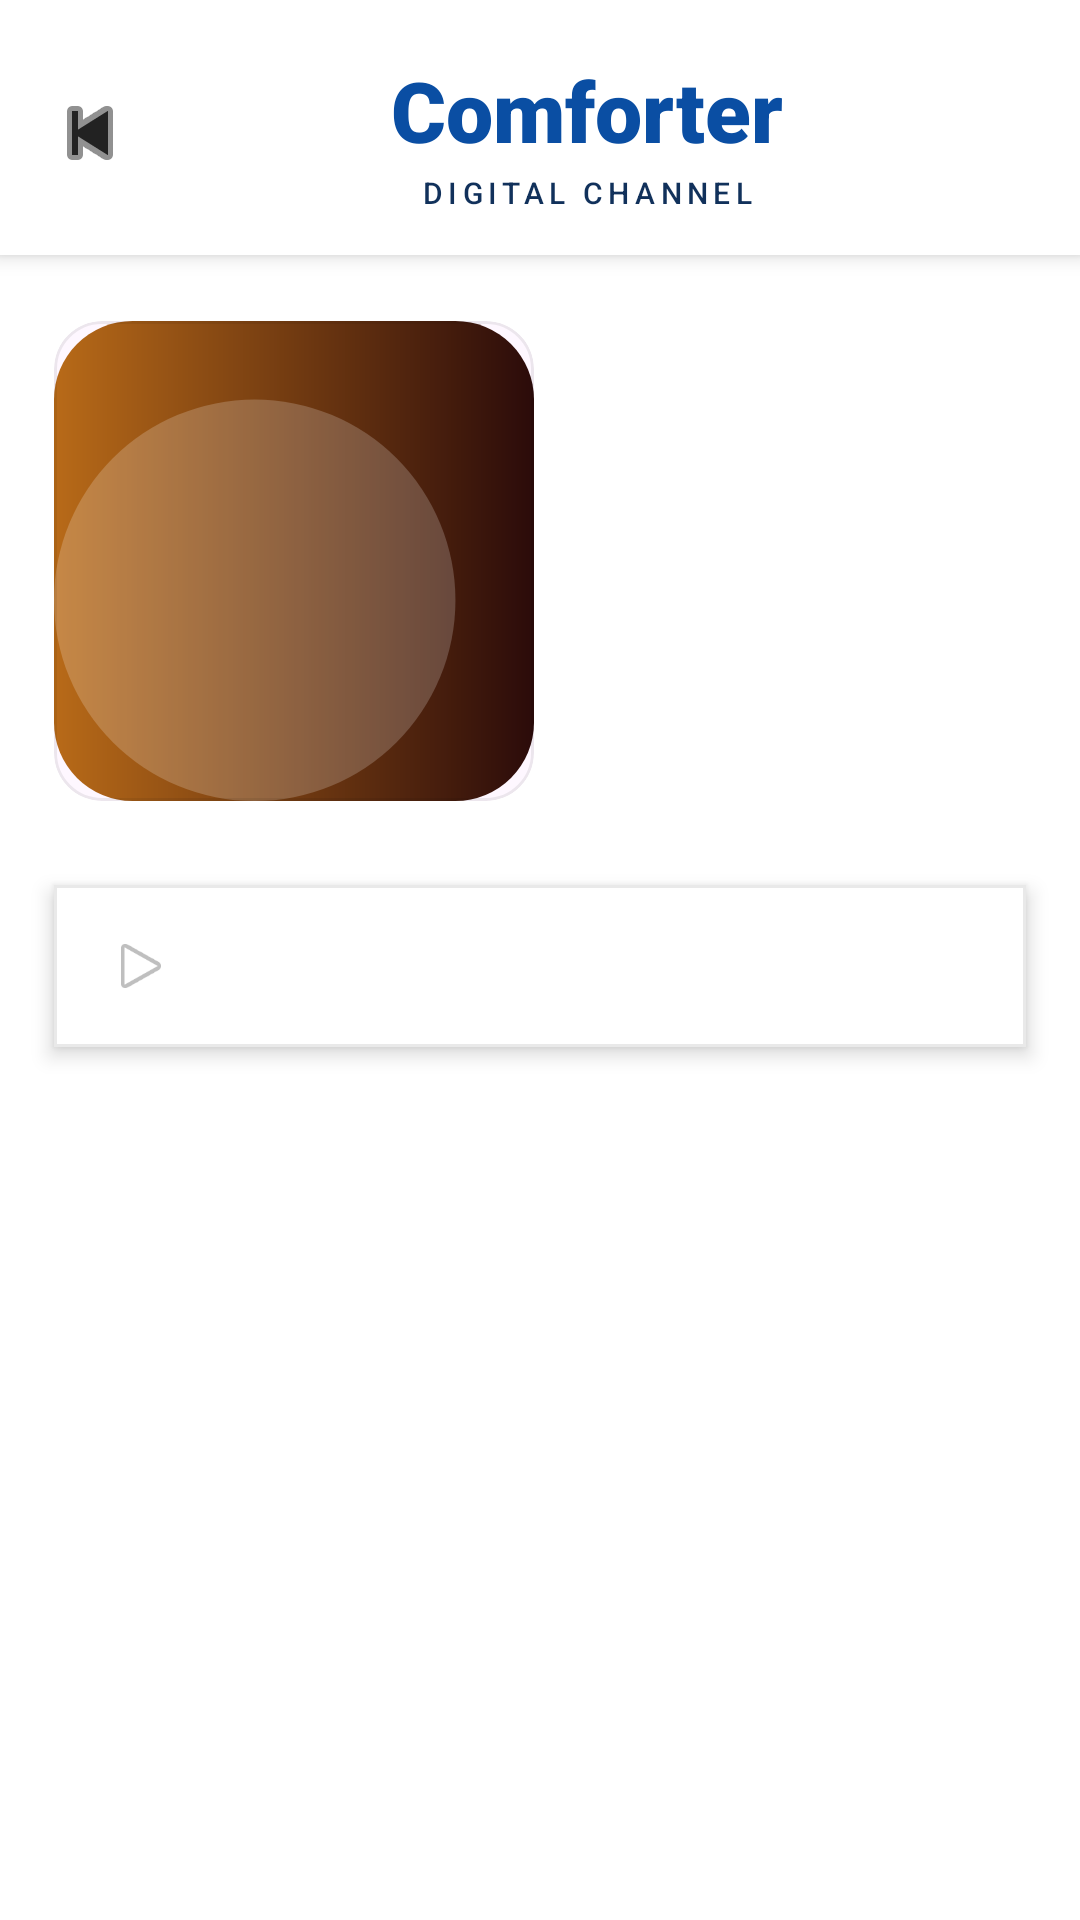

Icons on this 1080×1920 Android screen, each with the point to tap as point (x, y):
Back: point (90, 133)
play: point (141, 966)
